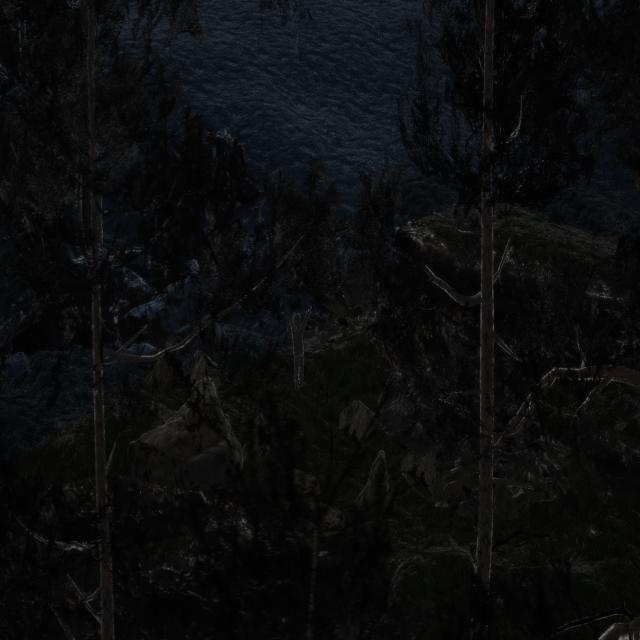Human: (283, 298, 314, 401)
